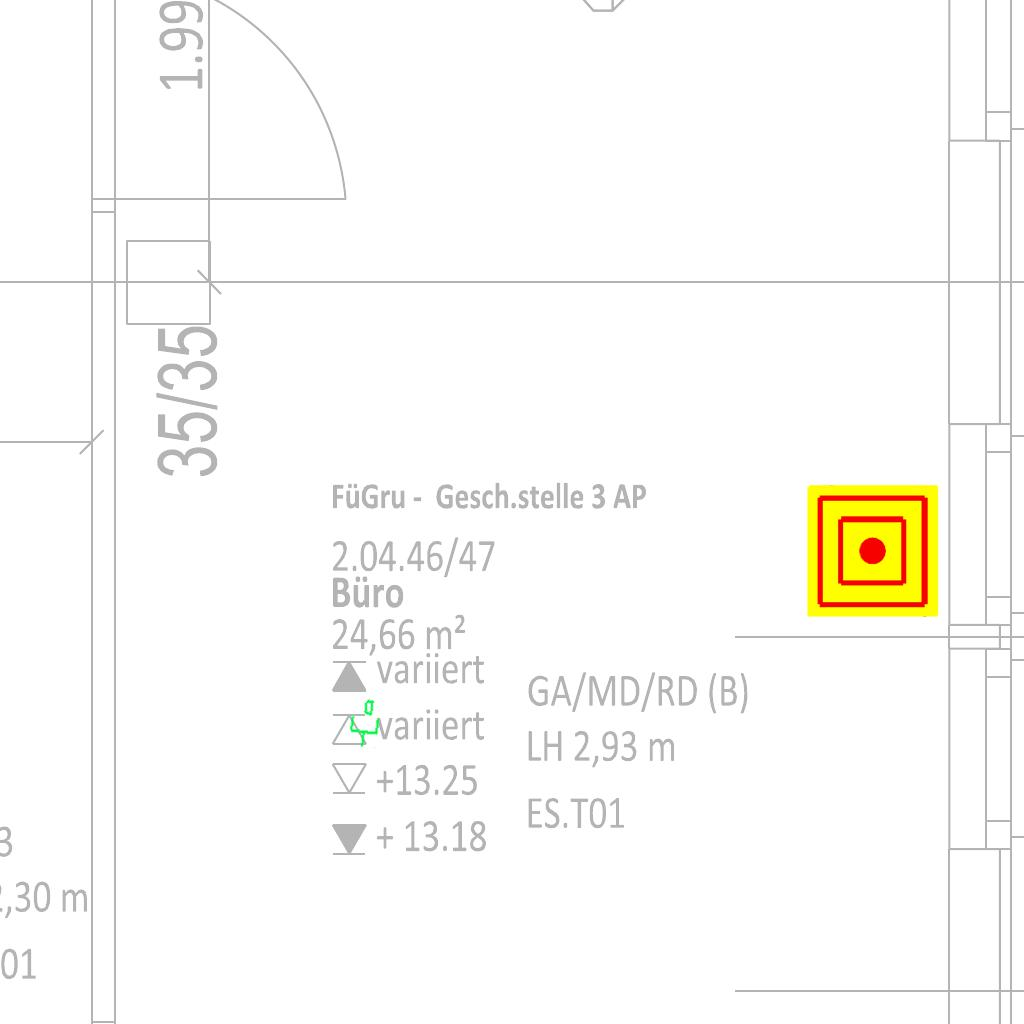Datenanschluss_einfach: (344, 696, 384, 750)
NAM-Nichtautomatischer_Melder: (807, 485, 939, 617)
